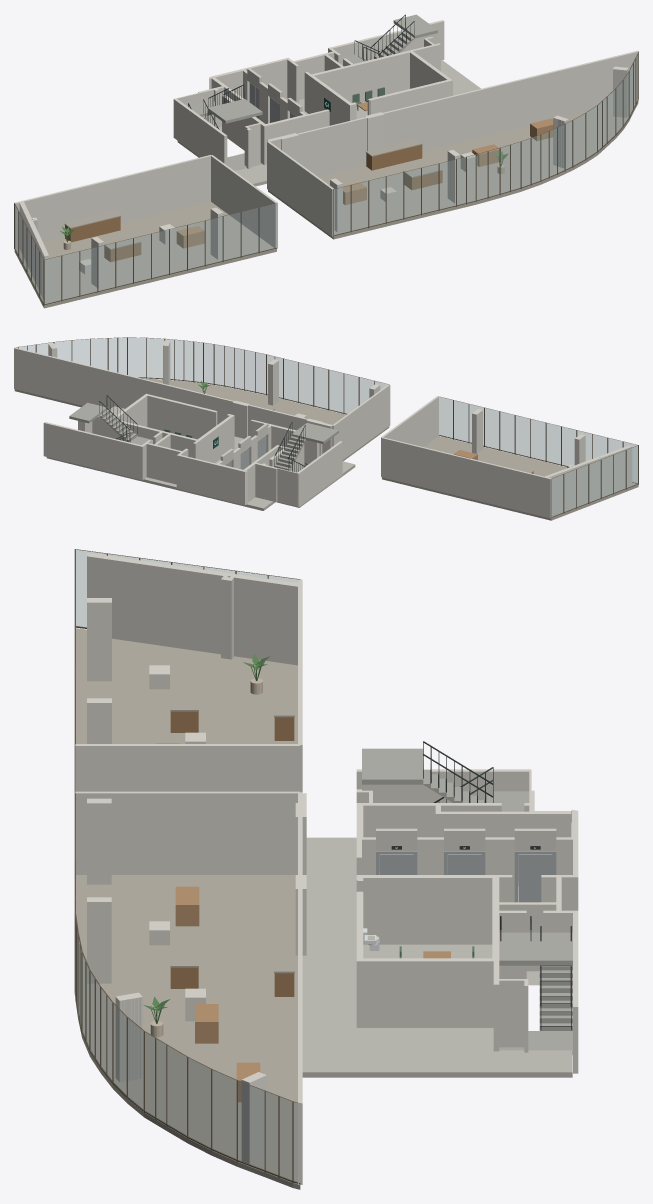
The model's file is upper-ground-full.glb.
3 renders of one model, top to bottom at view 1: azimuth 30°, elevation 25°; view 2: azimuth 150°, elevation 25°; view 3: azimuth 270°, elevation 25°, orthographic. The views are drawn at different scales.
Visible parts, largest first — view 1: PROPOSED | rear / circulation partition.003, SOURCE REGION | shop floor.001, SOURCE REGION | shop floor, PROPOSED | rear / circulation partition.001, PROPOSED | rear / circulation partition.002, PROPOSED | rear / circulation partition, SOURCE WALL | 15, SOURCE WALL | 81, SOURCE WALL | 40, SOURCE WALL | 17.010, SOURCE FLOOR | core_circulation, SOURCE WALL | 14 (+53 smaller); view 2: PROPOSED | rear / circulation partition.003, PROPOSED | rear / circulation partition.001, SOURCE WALL | 40.001, SOURCE REGION | shop floor, PROPOSED | rear / circulation partition.002, SOURCE REGION | shop floor.001, SOURCE | structural footprint 108, SOURCE WALL | 17.008, PROPOSED | rear / circulation partition, SOURCE WALL | 81, SOURCE WALL | 25.001, SOURCE WALL | 38.001 (+59 smaller); view 3: SOURCE REGION | shop floor.001, SOURCE FLOOR | core_circulation, PROPOSED | rear / circulation partition.002, SOURCE REGION | shop floor, PROPOSED | rear / circulation partition, SOURCE | structural footprint 108, SOURCE WALL | 16.001, SOURCE WALL | 14.001, SOURCE | structural footprint 110, SOURCE WALL | 81.001, SOURCE WALL | 9.001, SOURCE | structural footprint 37 (+36 smaller).
Boxes of the visible parts, bbox=[...] form: PROPOSED | rear / circulation partition.003: bbox=[267, 50, 638, 176]; SOURCE REGION | shop floor.001: bbox=[268, 99, 638, 239]; SOURCE REGION | shop floor: bbox=[14, 202, 276, 308]; PROPOSED | rear / circulation partition.001: bbox=[14, 155, 211, 248]; PROPOSED | rear / circulation partition.002: bbox=[267, 141, 334, 236]; PROPOSED | rear / circulation partition: bbox=[211, 155, 277, 248]; SOURCE WALL | 15: bbox=[308, 52, 409, 113]; SOURCE WALL | 81: bbox=[174, 100, 227, 165]; SOURCE WALL | 40: bbox=[328, 21, 444, 60]; SOURCE WALL | 17.010: bbox=[370, 81, 449, 114]; SOURCE FLOOR | core_circulation: bbox=[219, 60, 480, 183]; SOURCE WALL | 14: bbox=[310, 77, 353, 125]; PROPOSED | rear / circulation partition.003: bbox=[14, 347, 333, 446]; PROPOSED | rear / circulation partition.001: bbox=[381, 437, 551, 518]; SOURCE WALL | 40.001: bbox=[43, 422, 142, 480]; SOURCE REGION | shop floor: bbox=[382, 436, 638, 520]; PROPOSED | rear / circulation partition.002: bbox=[333, 384, 390, 459]; SOURCE REGION | shop floor.001: bbox=[14, 378, 389, 461]; SOURCE | structural footprint 108: bbox=[544, 456, 601, 515]; SOURCE WALL | 17.008: bbox=[147, 395, 216, 439]; PROPOSED | rear / circulation partition: bbox=[381, 396, 438, 476]; SOURCE WALL | 81: bbox=[299, 441, 342, 505]; SOURCE WALL | 25.001: bbox=[176, 454, 215, 497]; SOURCE WALL | 38.001: bbox=[146, 443, 180, 484]; SOURCE REGION | shop floor.001: bbox=[75, 875, 300, 1189]; SOURCE FLOOR | core_circulation: bbox=[302, 837, 572, 1072]; PROPOSED | rear / circulation partition.002: bbox=[75, 791, 300, 874]; SOURCE REGION | shop floor: bbox=[76, 628, 297, 743]; PROPOSED | rear / circulation partition: bbox=[75, 744, 300, 791]; SOURCE | structural footprint 108: bbox=[162, 564, 299, 665]; SOURCE WALL | 16.001: bbox=[356, 958, 492, 1027]; SOURCE WALL | 14.001: bbox=[360, 875, 492, 944]; SOURCE | structural footprint 110: bbox=[102, 555, 164, 645]; SOURCE WALL | 81.001: bbox=[356, 769, 529, 802]; SOURCE WALL | 9.001: bbox=[363, 803, 501, 871]; SOURCE | structural footprint 37: bbox=[115, 992, 142, 1081].
Size of the model in its own units: 47.31 by 5.36 by 18.16.
